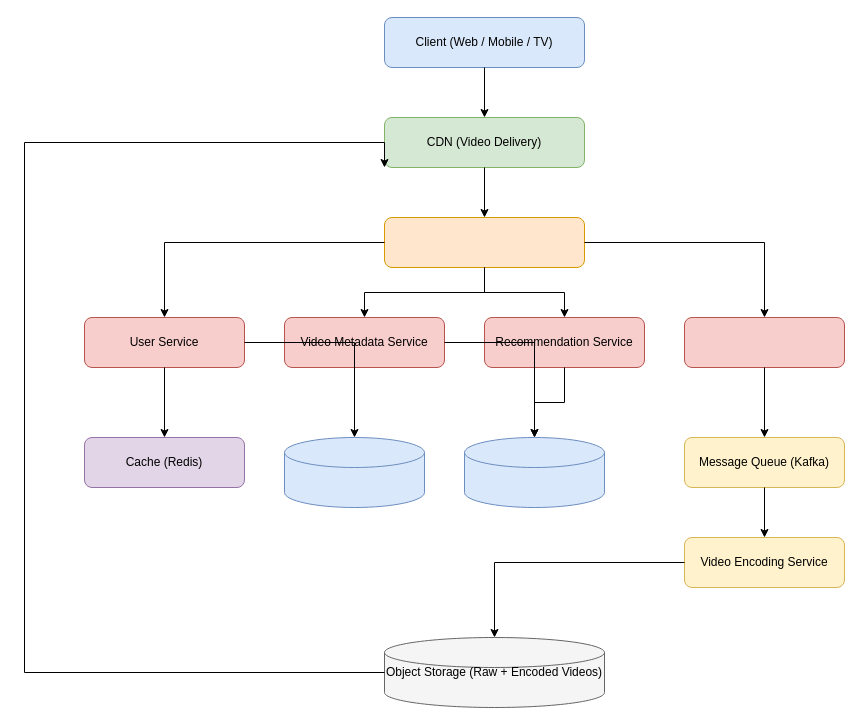
This 862x725 diagram has some shape labels left out. Each missing label, with the centre of its shape:
API Gateway / Load Balancer: [484,242]
Metadata DB (NoSQL): [534,472]
Streaming Service: [764,342]
User DB (SQL): [354,472]
